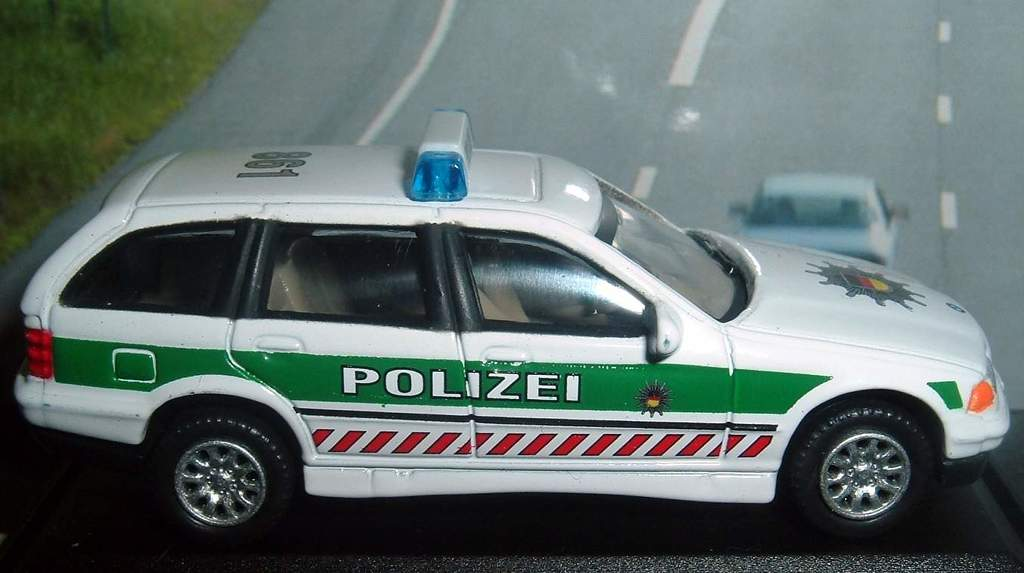cars: (26, 117, 1008, 541), (727, 168, 910, 267)
